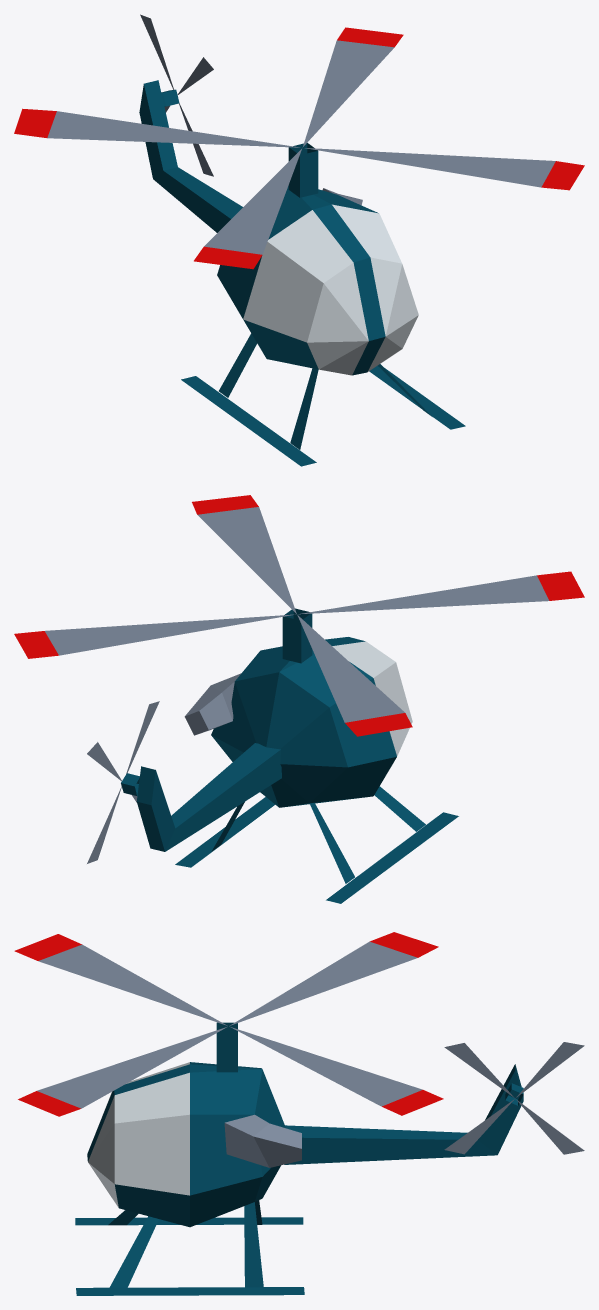
Rendered from helicopter.obj.
3 renders of one model, top to bottom at view 1: azimuth 30°, elevation 25°; view 2: azimuth 150°, elevation 25°; view 3: azimuth 270°, elevation 25°, orthographic. The views are drawn at different scales.
Parts seen in each view (by area): view 1: SKY_HELICOPTER; view 2: SKY_HELICOPTER; view 3: SKY_HELICOPTER.
Part boxes in pixels (bbox=[...]): SKY_HELICOPTER: bbox=[14, 14, 584, 466]; SKY_HELICOPTER: bbox=[14, 495, 584, 903]; SKY_HELICOPTER: bbox=[14, 932, 584, 1295].
Size of the model in its own units: 11.64 by 6.77 by 15.21.
Materials: 1 (1 with a texture image).
